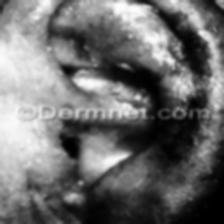Toxin: (164, 26, 224, 74)
